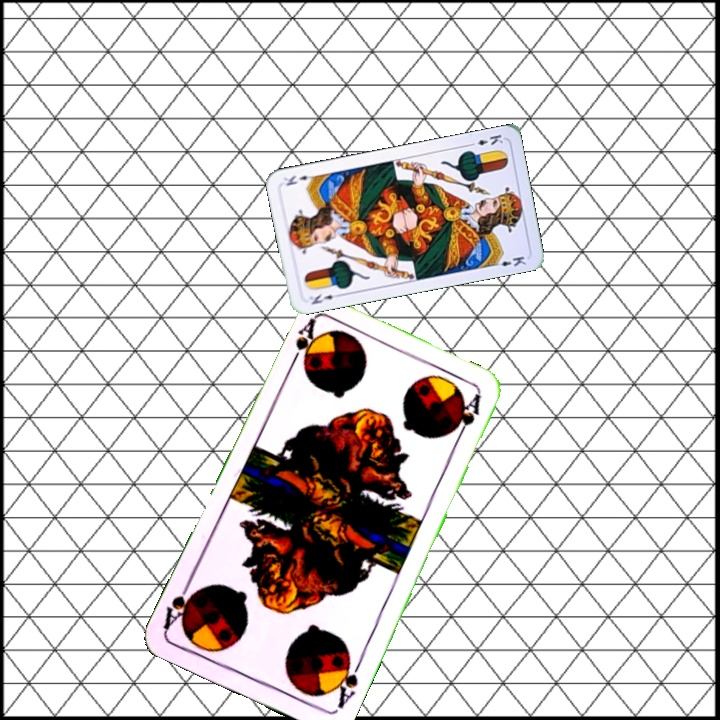EK: (465, 130, 506, 149), (305, 289, 343, 307)
SA: (329, 652, 364, 712), (286, 314, 320, 370)
